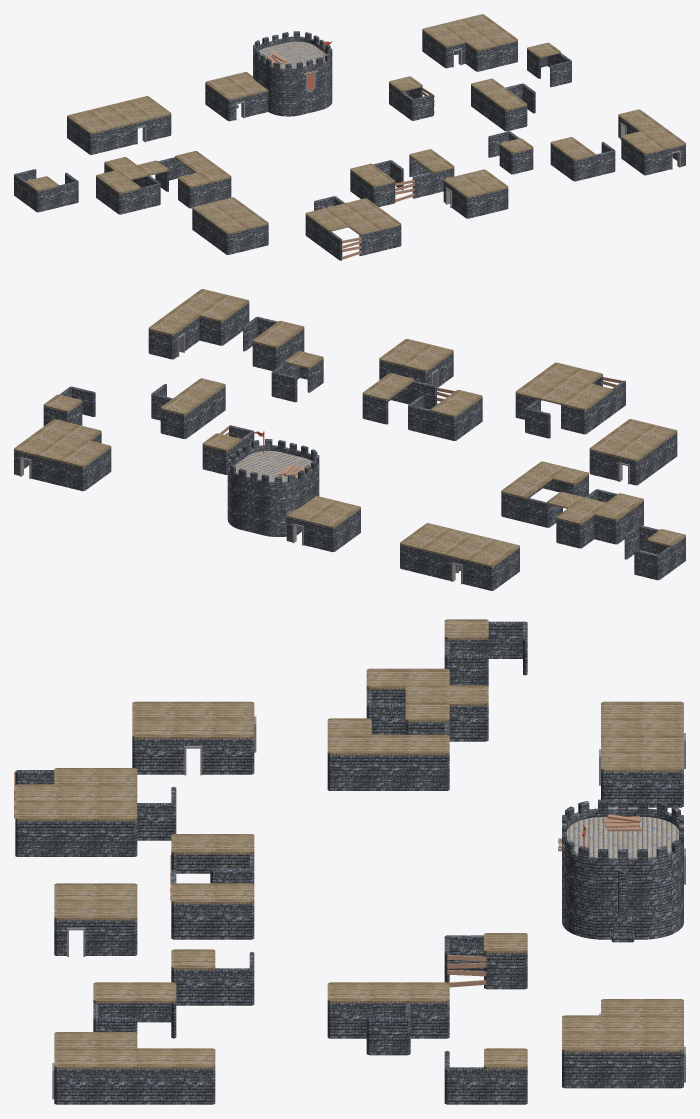
The model's file is ThunderTree.obj.
The picture shows the model from 3 angles, top to bottom: view 1: azimuth 30°, elevation 25°; view 2: azimuth 150°, elevation 25°; view 3: azimuth 270°, elevation 25°; orthographic projection. The views are drawn at different scales.
Bounding box in the file's own units: 27.12 × 3 × 17.21.
Materials: 12 (6 with a texture image).
